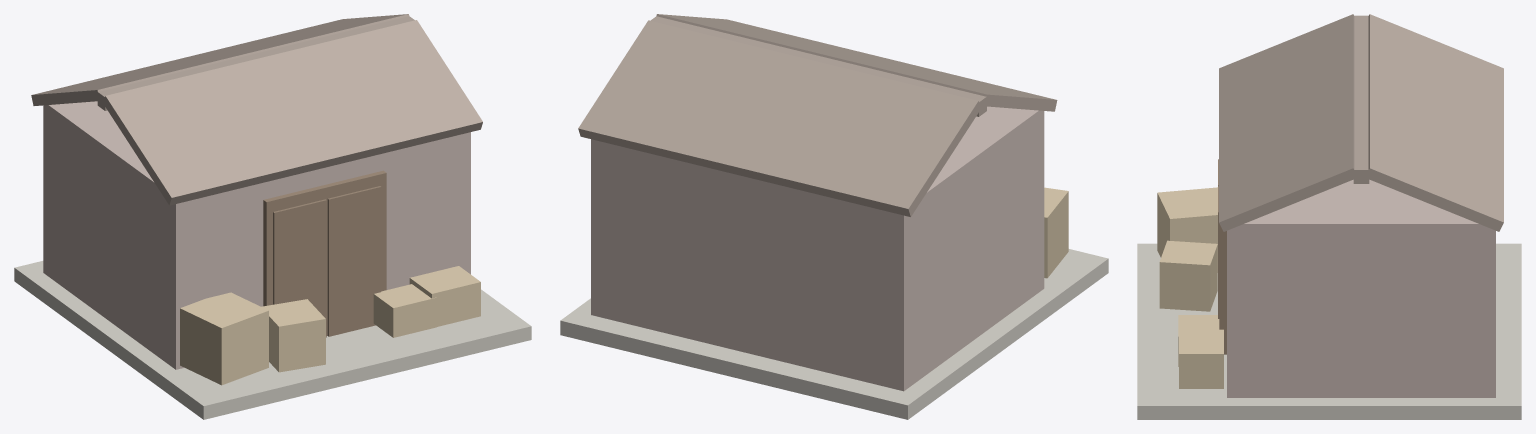
Rendered from SMALL_WAREHOUSE.glb.
3 renders of one model, left to right at view 1: azimuth 30°, elevation 25°; view 2: azimuth 150°, elevation 25°; view 3: azimuth 270°, elevation 25°, orthographic. The views are drawn at different scales.
Visible parts, largest first — view 1: SMALL_WAREHOUSE; view 2: SMALL_WAREHOUSE; view 3: SMALL_WAREHOUSE.
Part boxes in pixels (left/top/right/bottom): SMALL_WAREHOUSE: left=14, top=14, right=531, bottom=419; SMALL_WAREHOUSE: left=560, top=14, right=1108, bottom=419; SMALL_WAREHOUSE: left=1137, top=14, right=1521, bottom=419.
Size of the model in its own units: 3 by 2.14 by 3.
